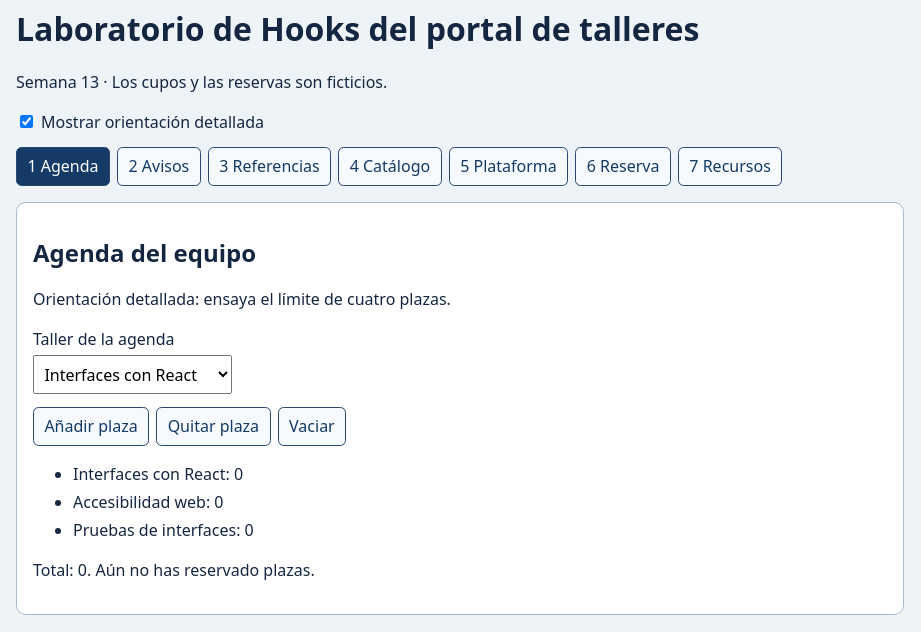
it: Estado y efectos › limita la agenda a cuatro y permite vaciarla
This screenshot has width=921, height=632.
Click the button "Añadir plaza".
click(91, 426)  # box 33,407 -> 149,446
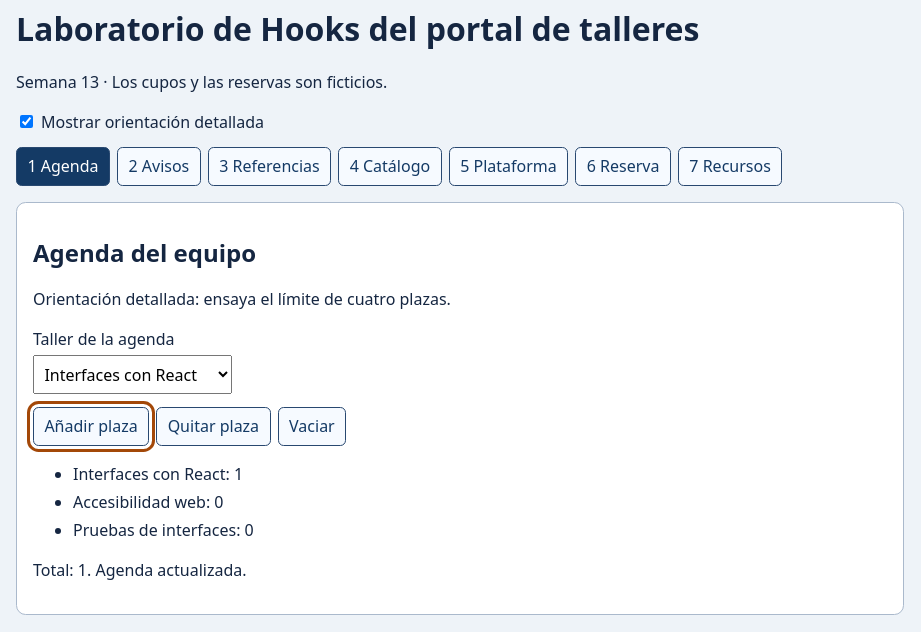
Click the button "Añadir plaza".
click(91, 426)  # box 33,407 -> 149,446
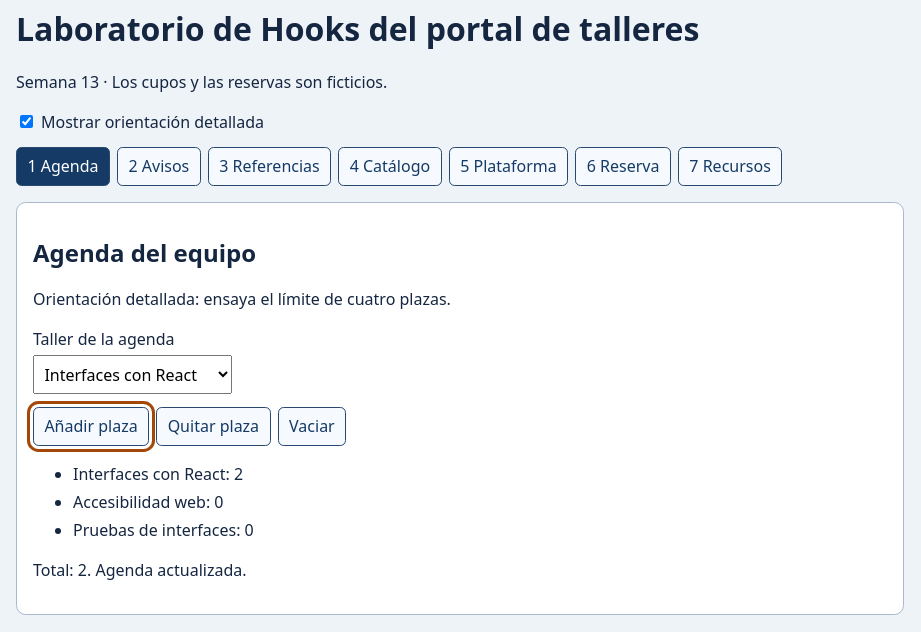
Click the button "Añadir plaza".
click(91, 426)  # box 33,407 -> 149,446
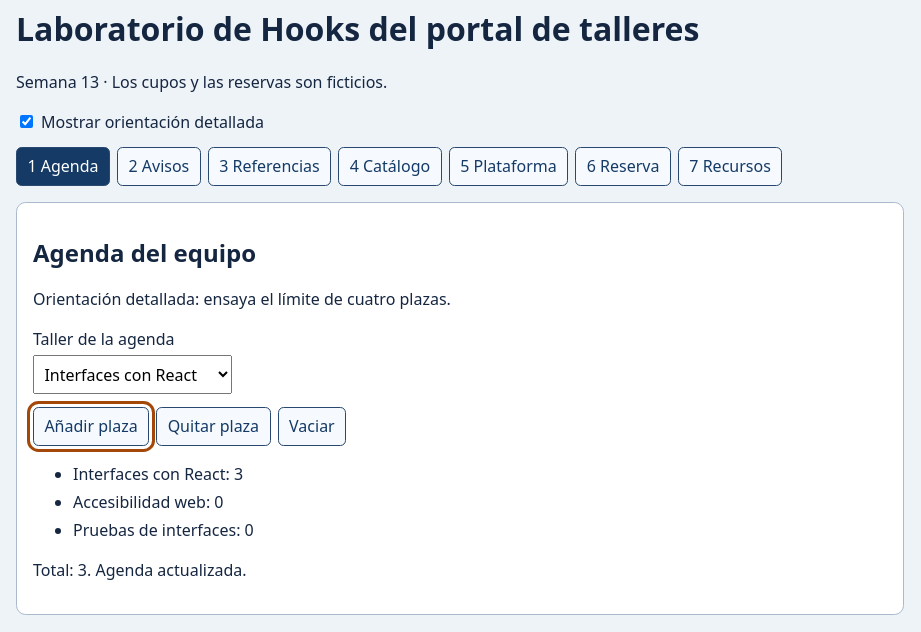
Click the button "Añadir plaza".
click(91, 426)  # box 33,407 -> 149,446
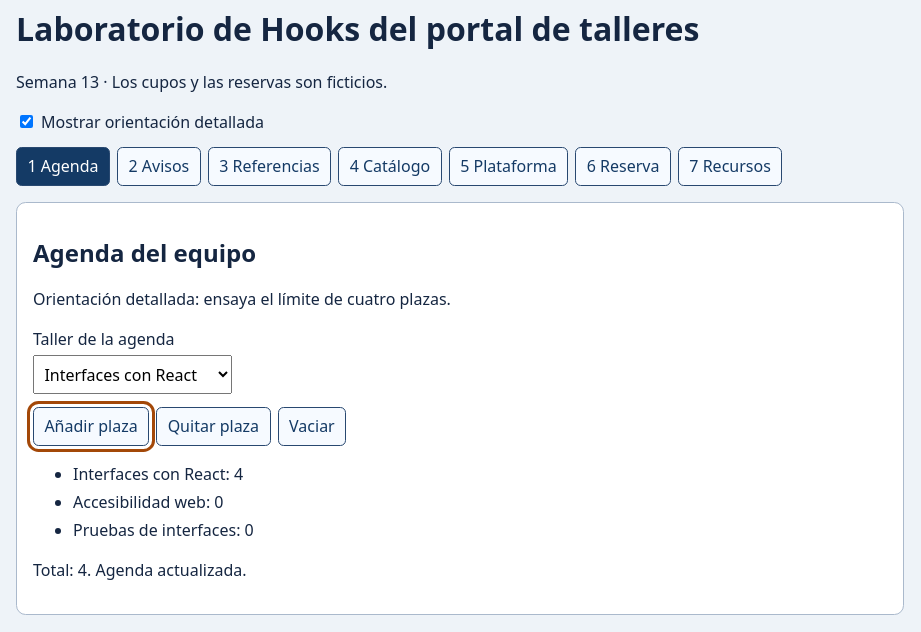
Click the button "Añadir plaza".
click(91, 426)  # box 33,407 -> 149,446
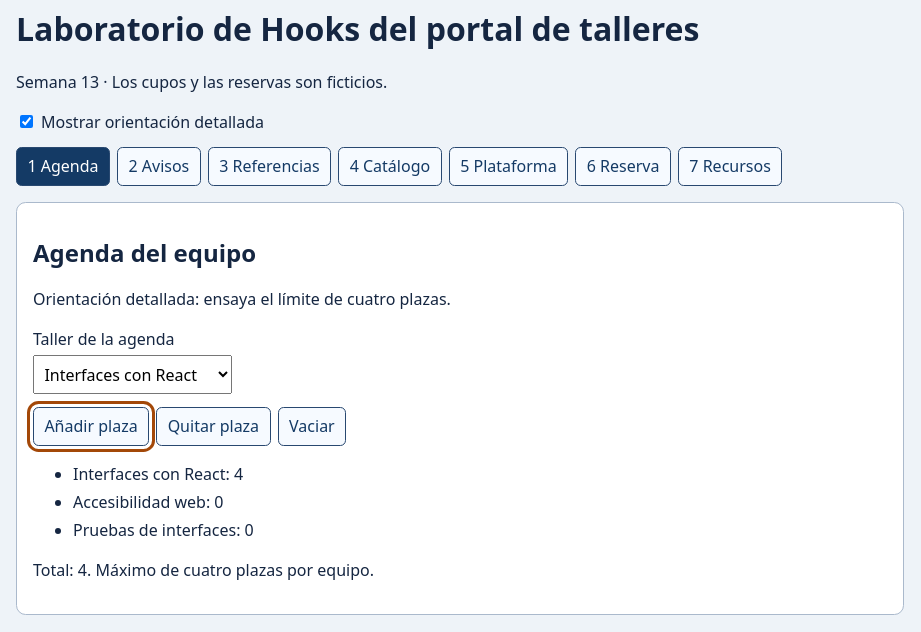
expect the message shows "Total: 4.": met, box 33,559 -> 374,581
expect the message shows "Máximo": met, box 95,559 -> 374,581
Click the button "Vaciar".
click(312, 426)  # box 278,407 -> 346,446
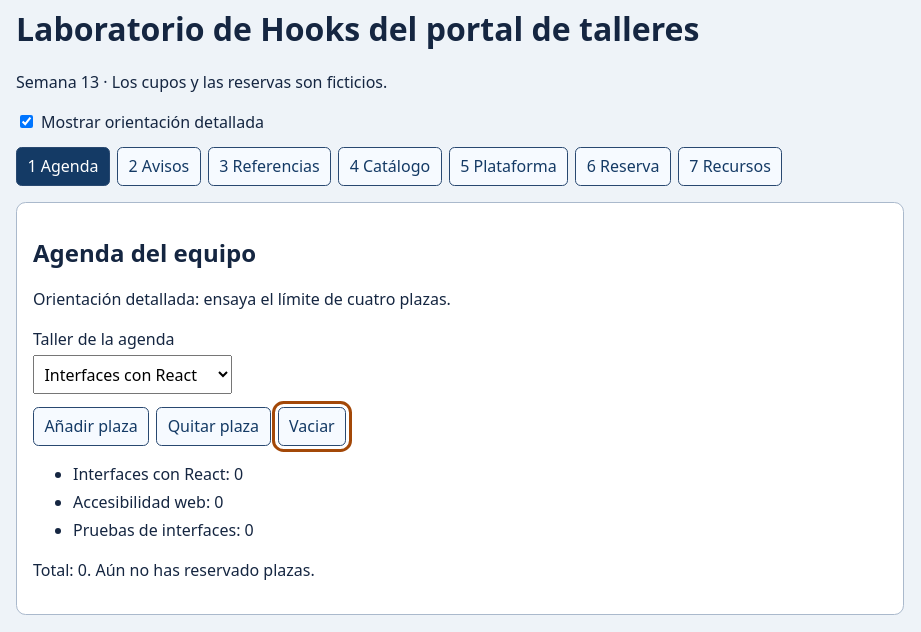
expect the message shows "Total: 0.": met, box 33,559 -> 315,581
